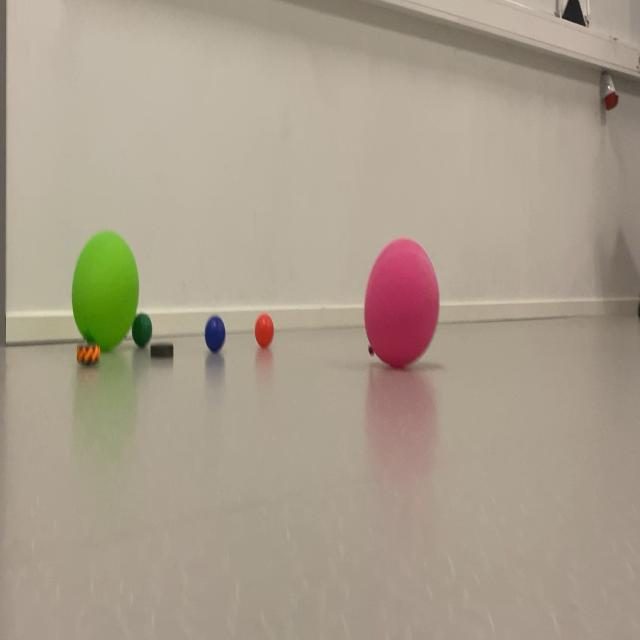7: (244, 287, 297, 416)
green ball: (199, 274, 237, 414)
red ball: (130, 284, 159, 362)
